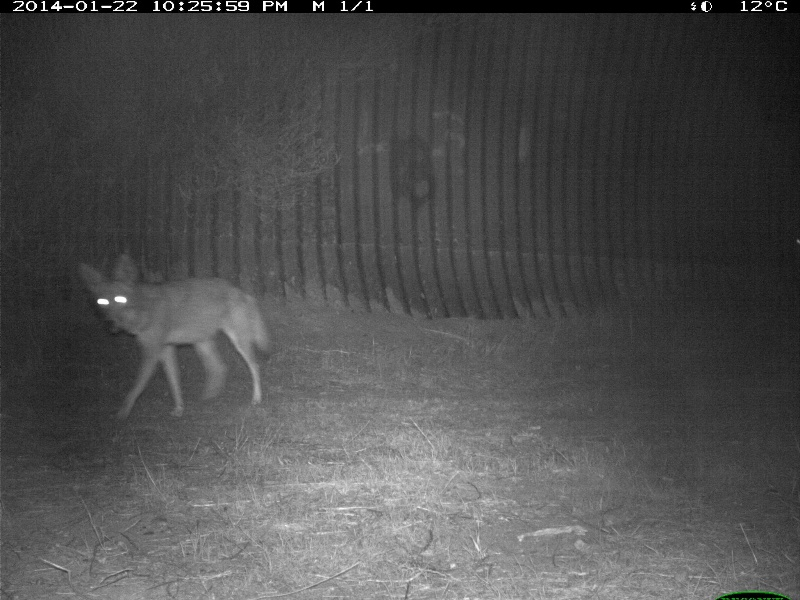coyote: (76, 251, 276, 425)
